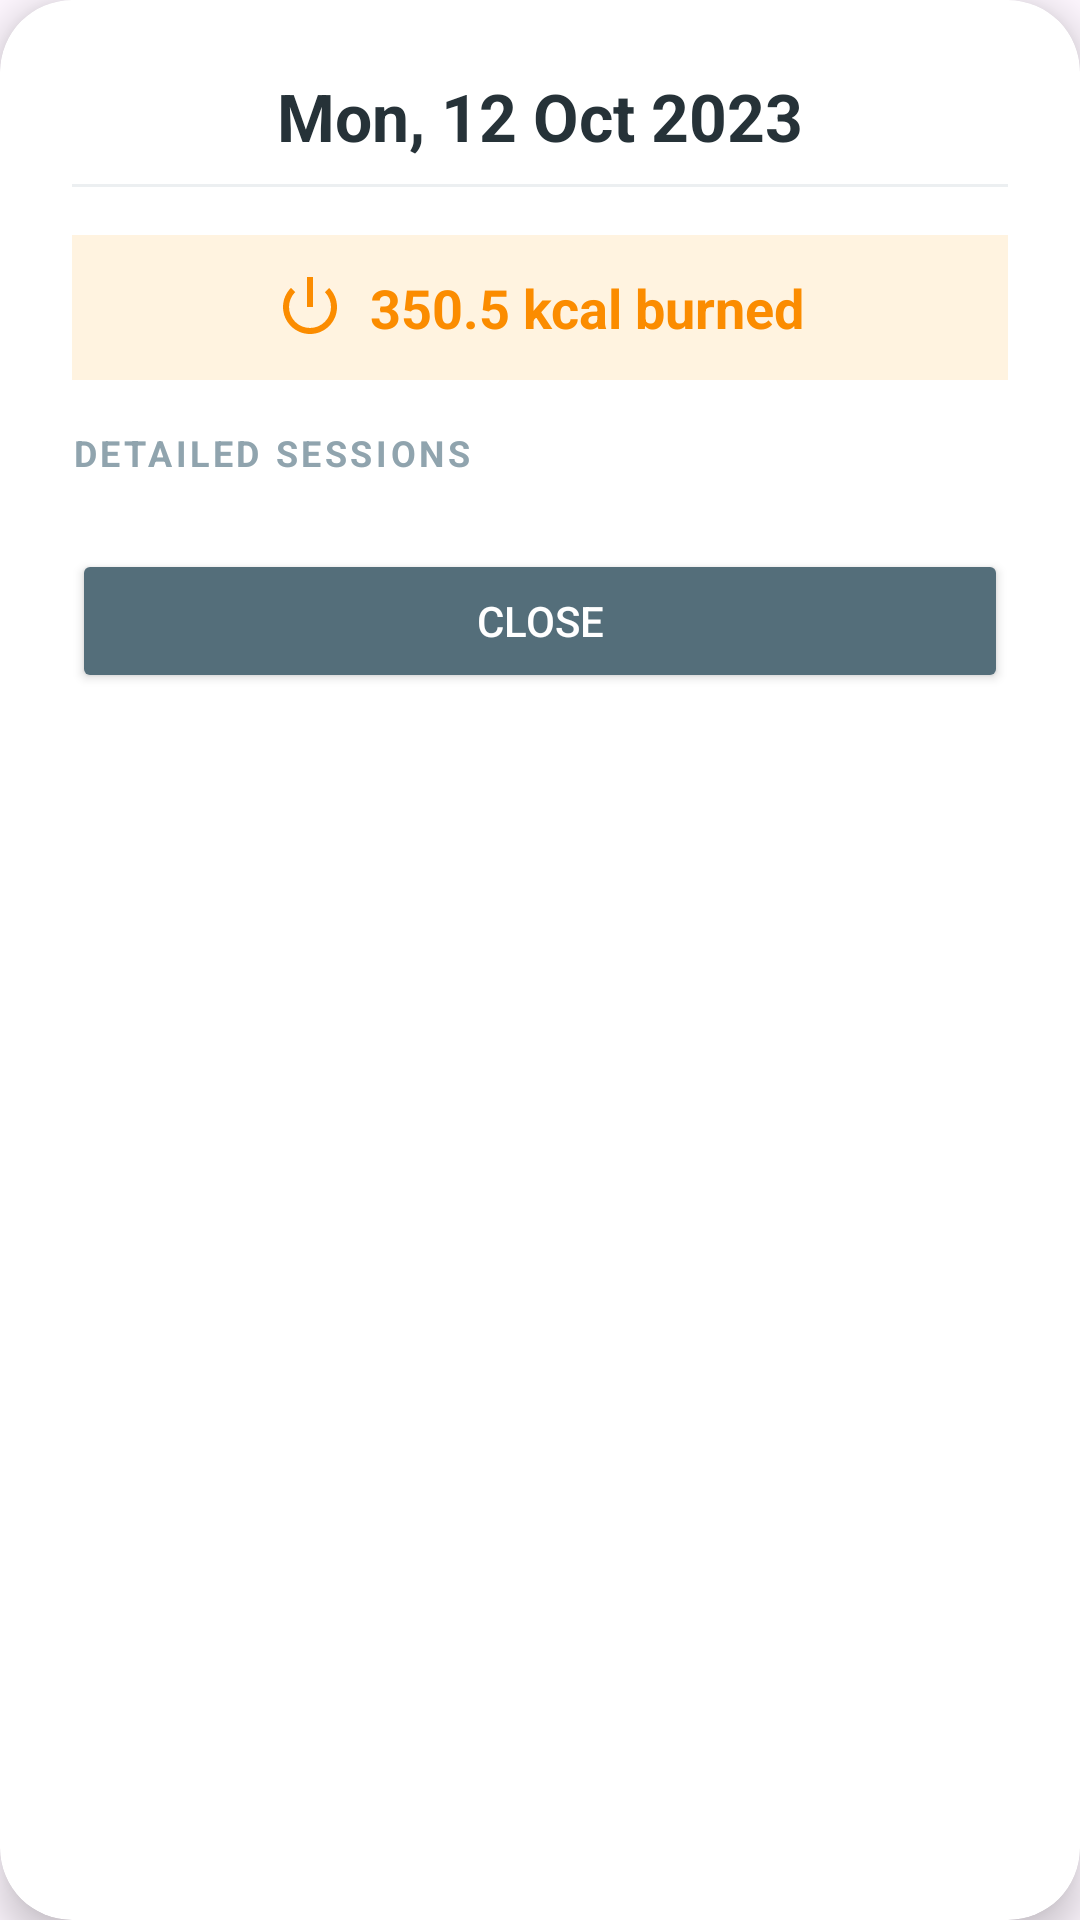

Screen size 1080×1920. Icon name, then its center in pixels as (x=x, y=y):
lock power off: (x=310, y=305)
